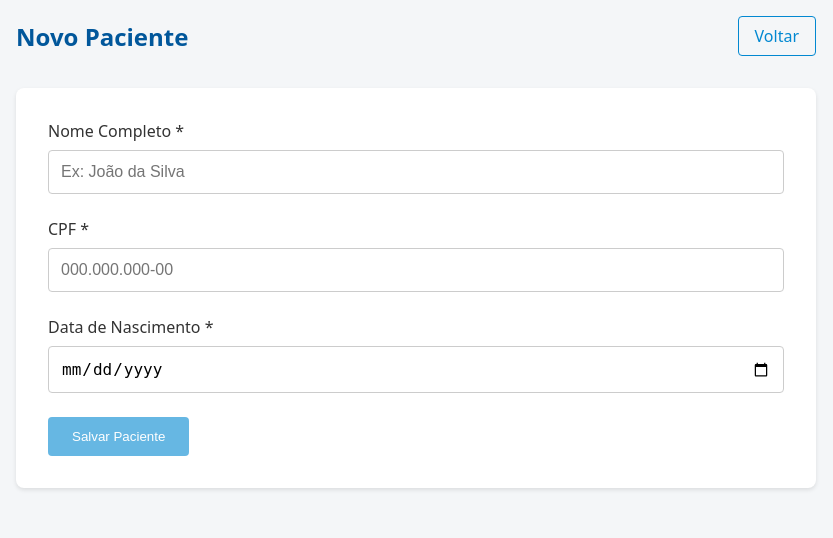
Test case: PatientFormComponent › should show error message when name is too short and touched
The width and height of the screenshot is (833, 538).
Type "Ab" into the field with id "name". click: (416, 172)
box: x1=48 y1=150 x2=784 y2=194
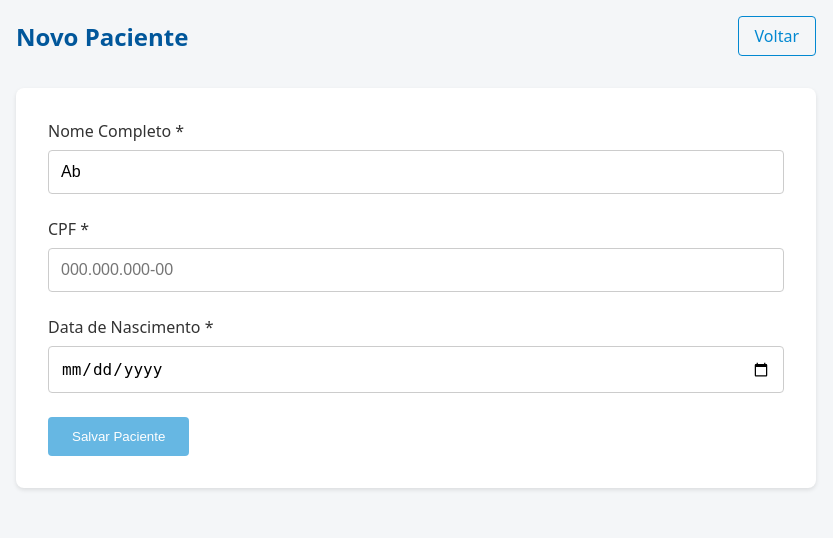
Leave the field with id "name", box x1=48 y1=150 x2=784 y2=194
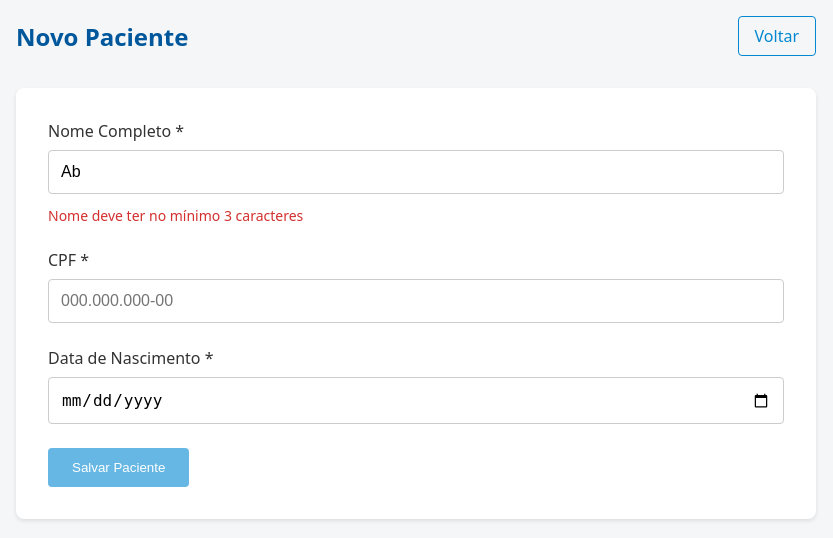
Result: the text with class "error-text" reads "Nome deve ter no mínimo 3 caracteres" at x1=48 y1=206 x2=303 y2=225
